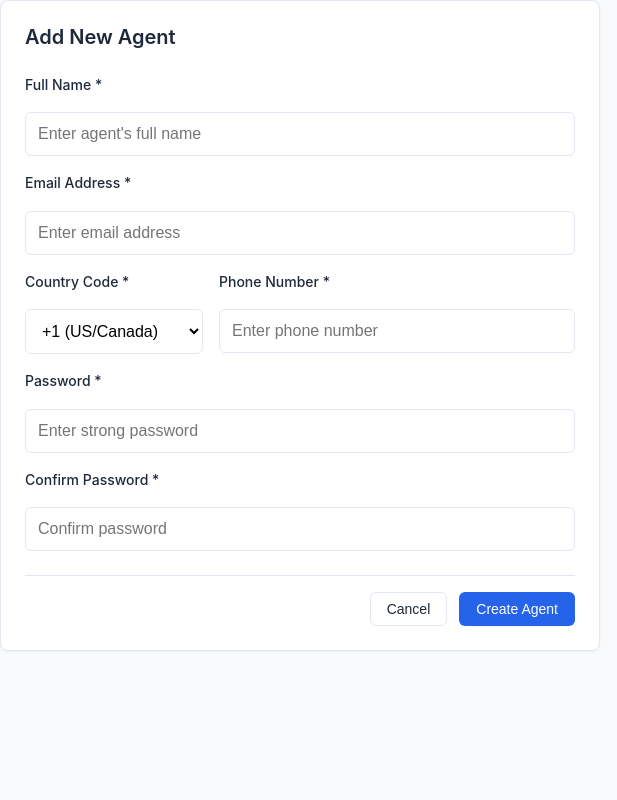
AddAgent › shows password mismatch error
The width and height of the screenshot is (617, 800).
Type "password123" into the password field labelled "Password *" at (300, 431), box [25, 409, 575, 453]
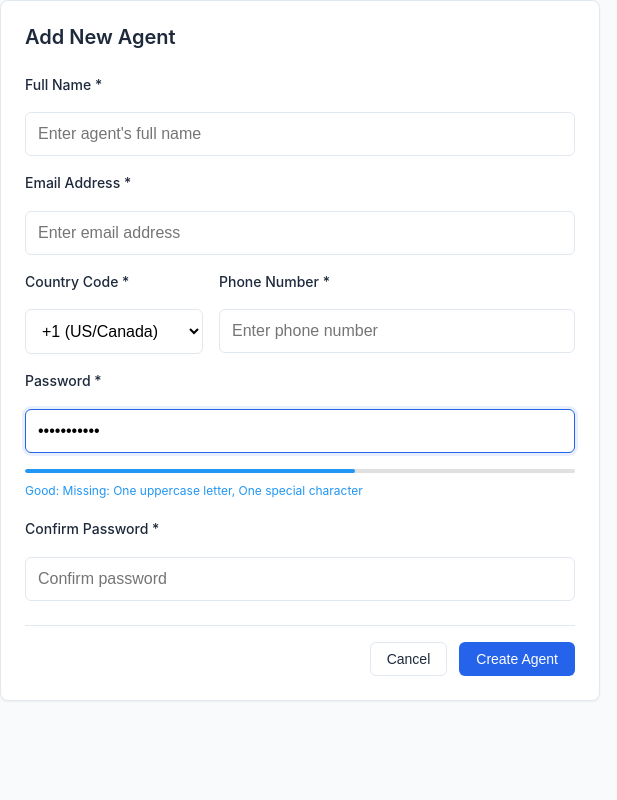
Type "different" into the password field labelled "Confirm Password *" at (300, 578), box [25, 556, 575, 600]
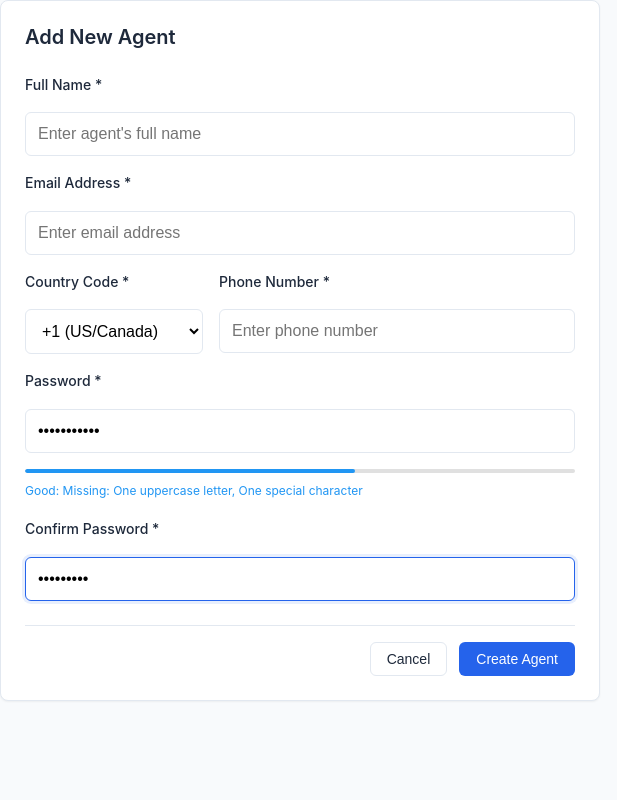
Click the button "Create Agent" at (517, 658), box [459, 642, 575, 676]
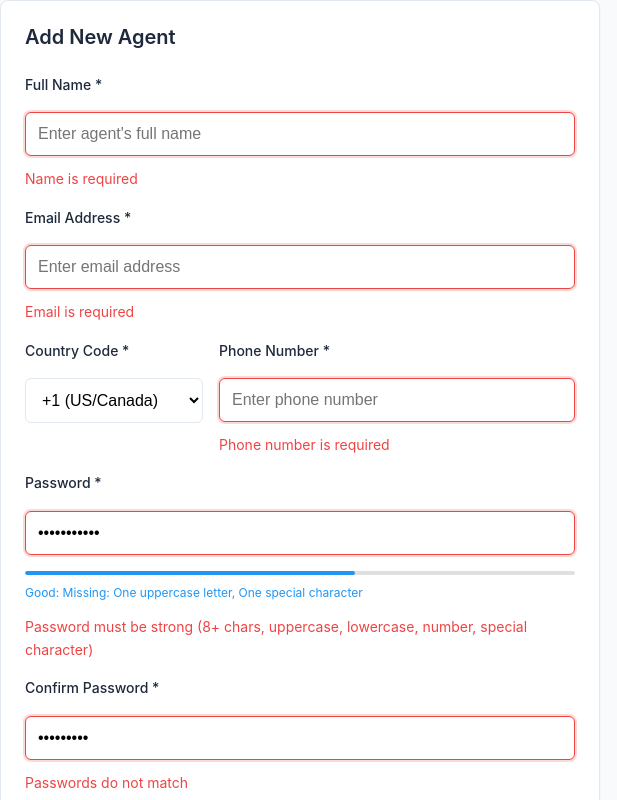
Expected: the text "Passwords do not match" is shown, [25, 774, 188, 790]
